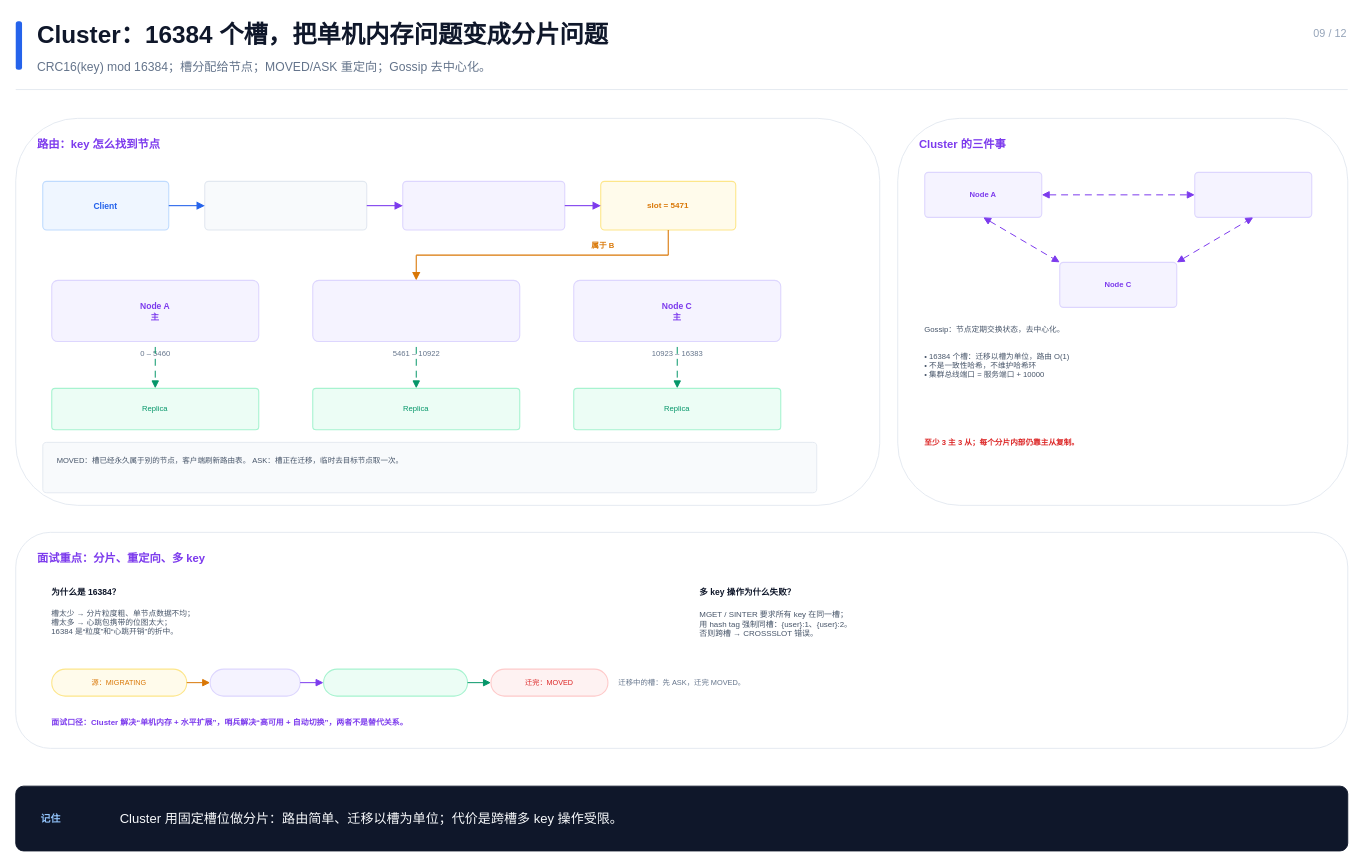
Some shapes in this 1364 by 867 pixel diagram are drawn without their labels. Here are the shapes that lost their labels. From the top down, the centre of each, then its label:
At (285,205): "key: user:1001".
At (483,205): "CRC16(key) mod 16384".
At (1253,194): "Node B".
At (416,310): "Node B 主".
At (254,682): "客户端：ASK".
At (395,682): "目标：IMPORTING".
